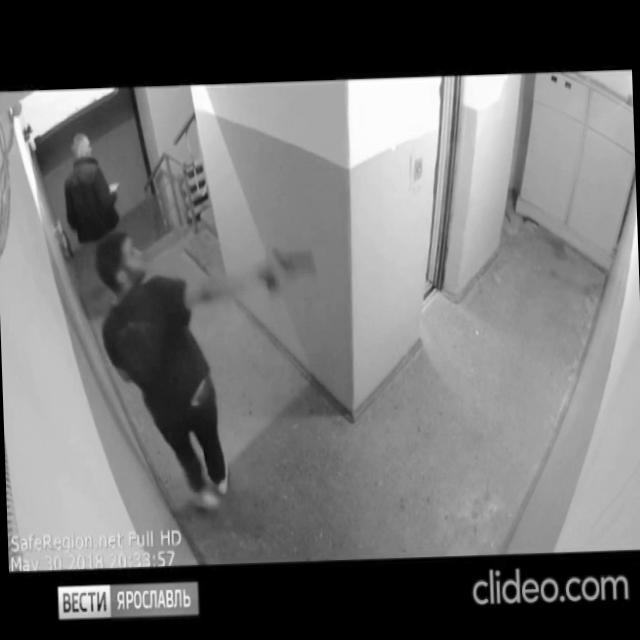gun: (258, 239, 319, 297)
person: (59, 124, 146, 323)
person with a gun: (91, 218, 328, 520)
